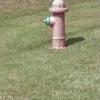Hydrant: (38, 0, 72, 56)
